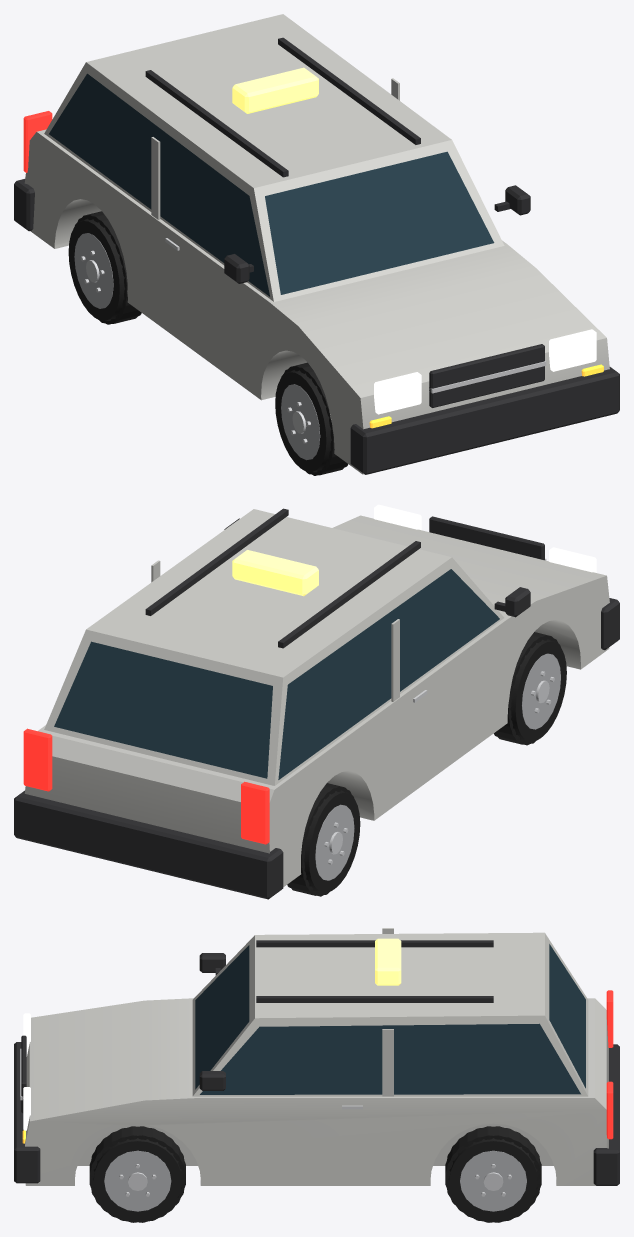
The model's file is taxi_suv.glb.
3 renders of one model, top to bottom at view 1: azimuth 30°, elevation 25°; view 2: azimuth 150°, elevation 25°; view 3: azimuth 270°, elevation 25°, orthographic. The views are drawn at different scales.
Visible parts, largest first — view 1: body, wheel_RR, wheel_FR; view 2: body, wheel_RR, wheel_FR; view 3: body, wheel_RL, wheel_FL.
Part boxes in pixels (x1,y1,x2,y2): body: (14, 14, 619, 474); wheel_RR: (68, 211, 141, 324); wheel_FR: (275, 362, 348, 475); body: (14, 504, 619, 899); wheel_RR: (287, 783, 360, 896); wheel_FR: (494, 632, 566, 745); body: (14, 928, 619, 1185); wheel_RL: (445, 1126, 541, 1222); wheel_FL: (89, 1126, 185, 1222).
Size of the model in its own units: 2.22 by 1.85 by 4.6.
